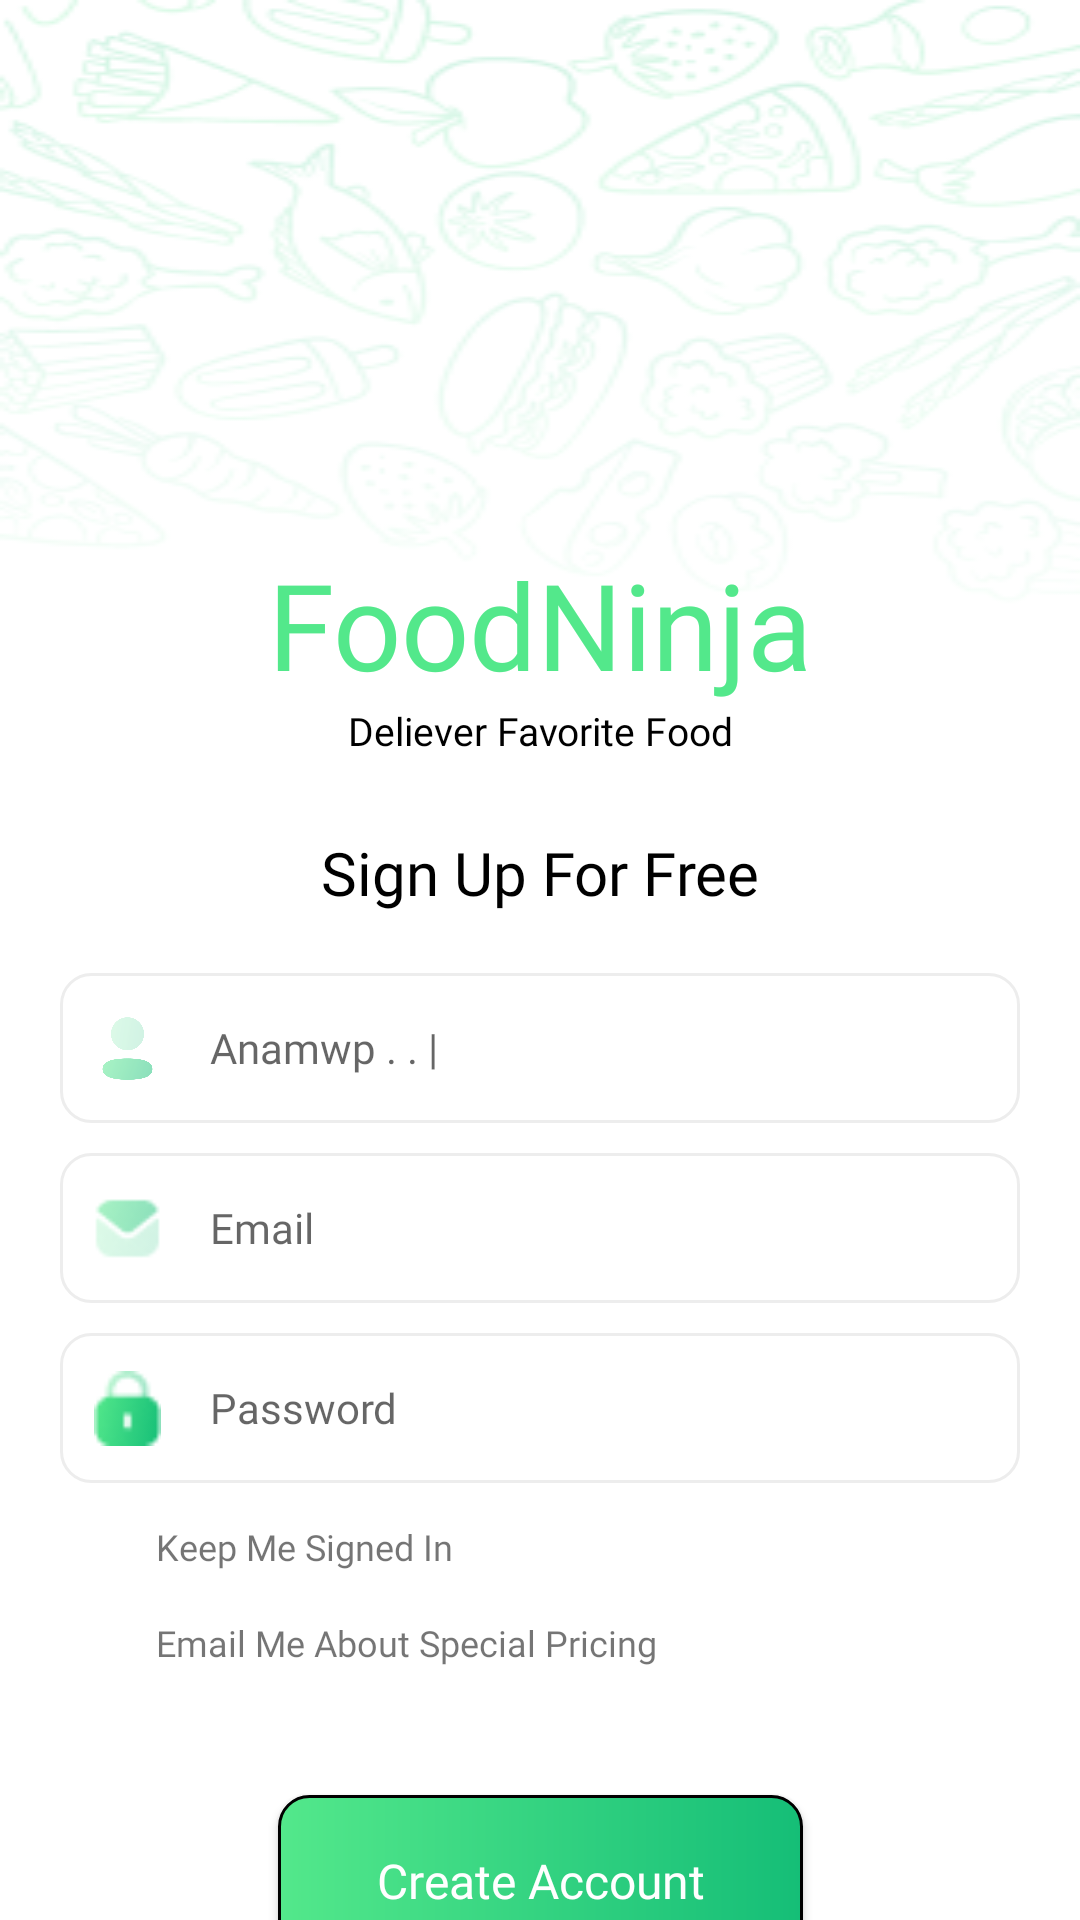

Where icons sit on this 1080×1920 app screen, as (x1, y1, x2, y2):
lock: (94, 1371, 161, 1446)
message: (97, 1200, 159, 1256)
profileprofileicon: (102, 1017, 153, 1080)
